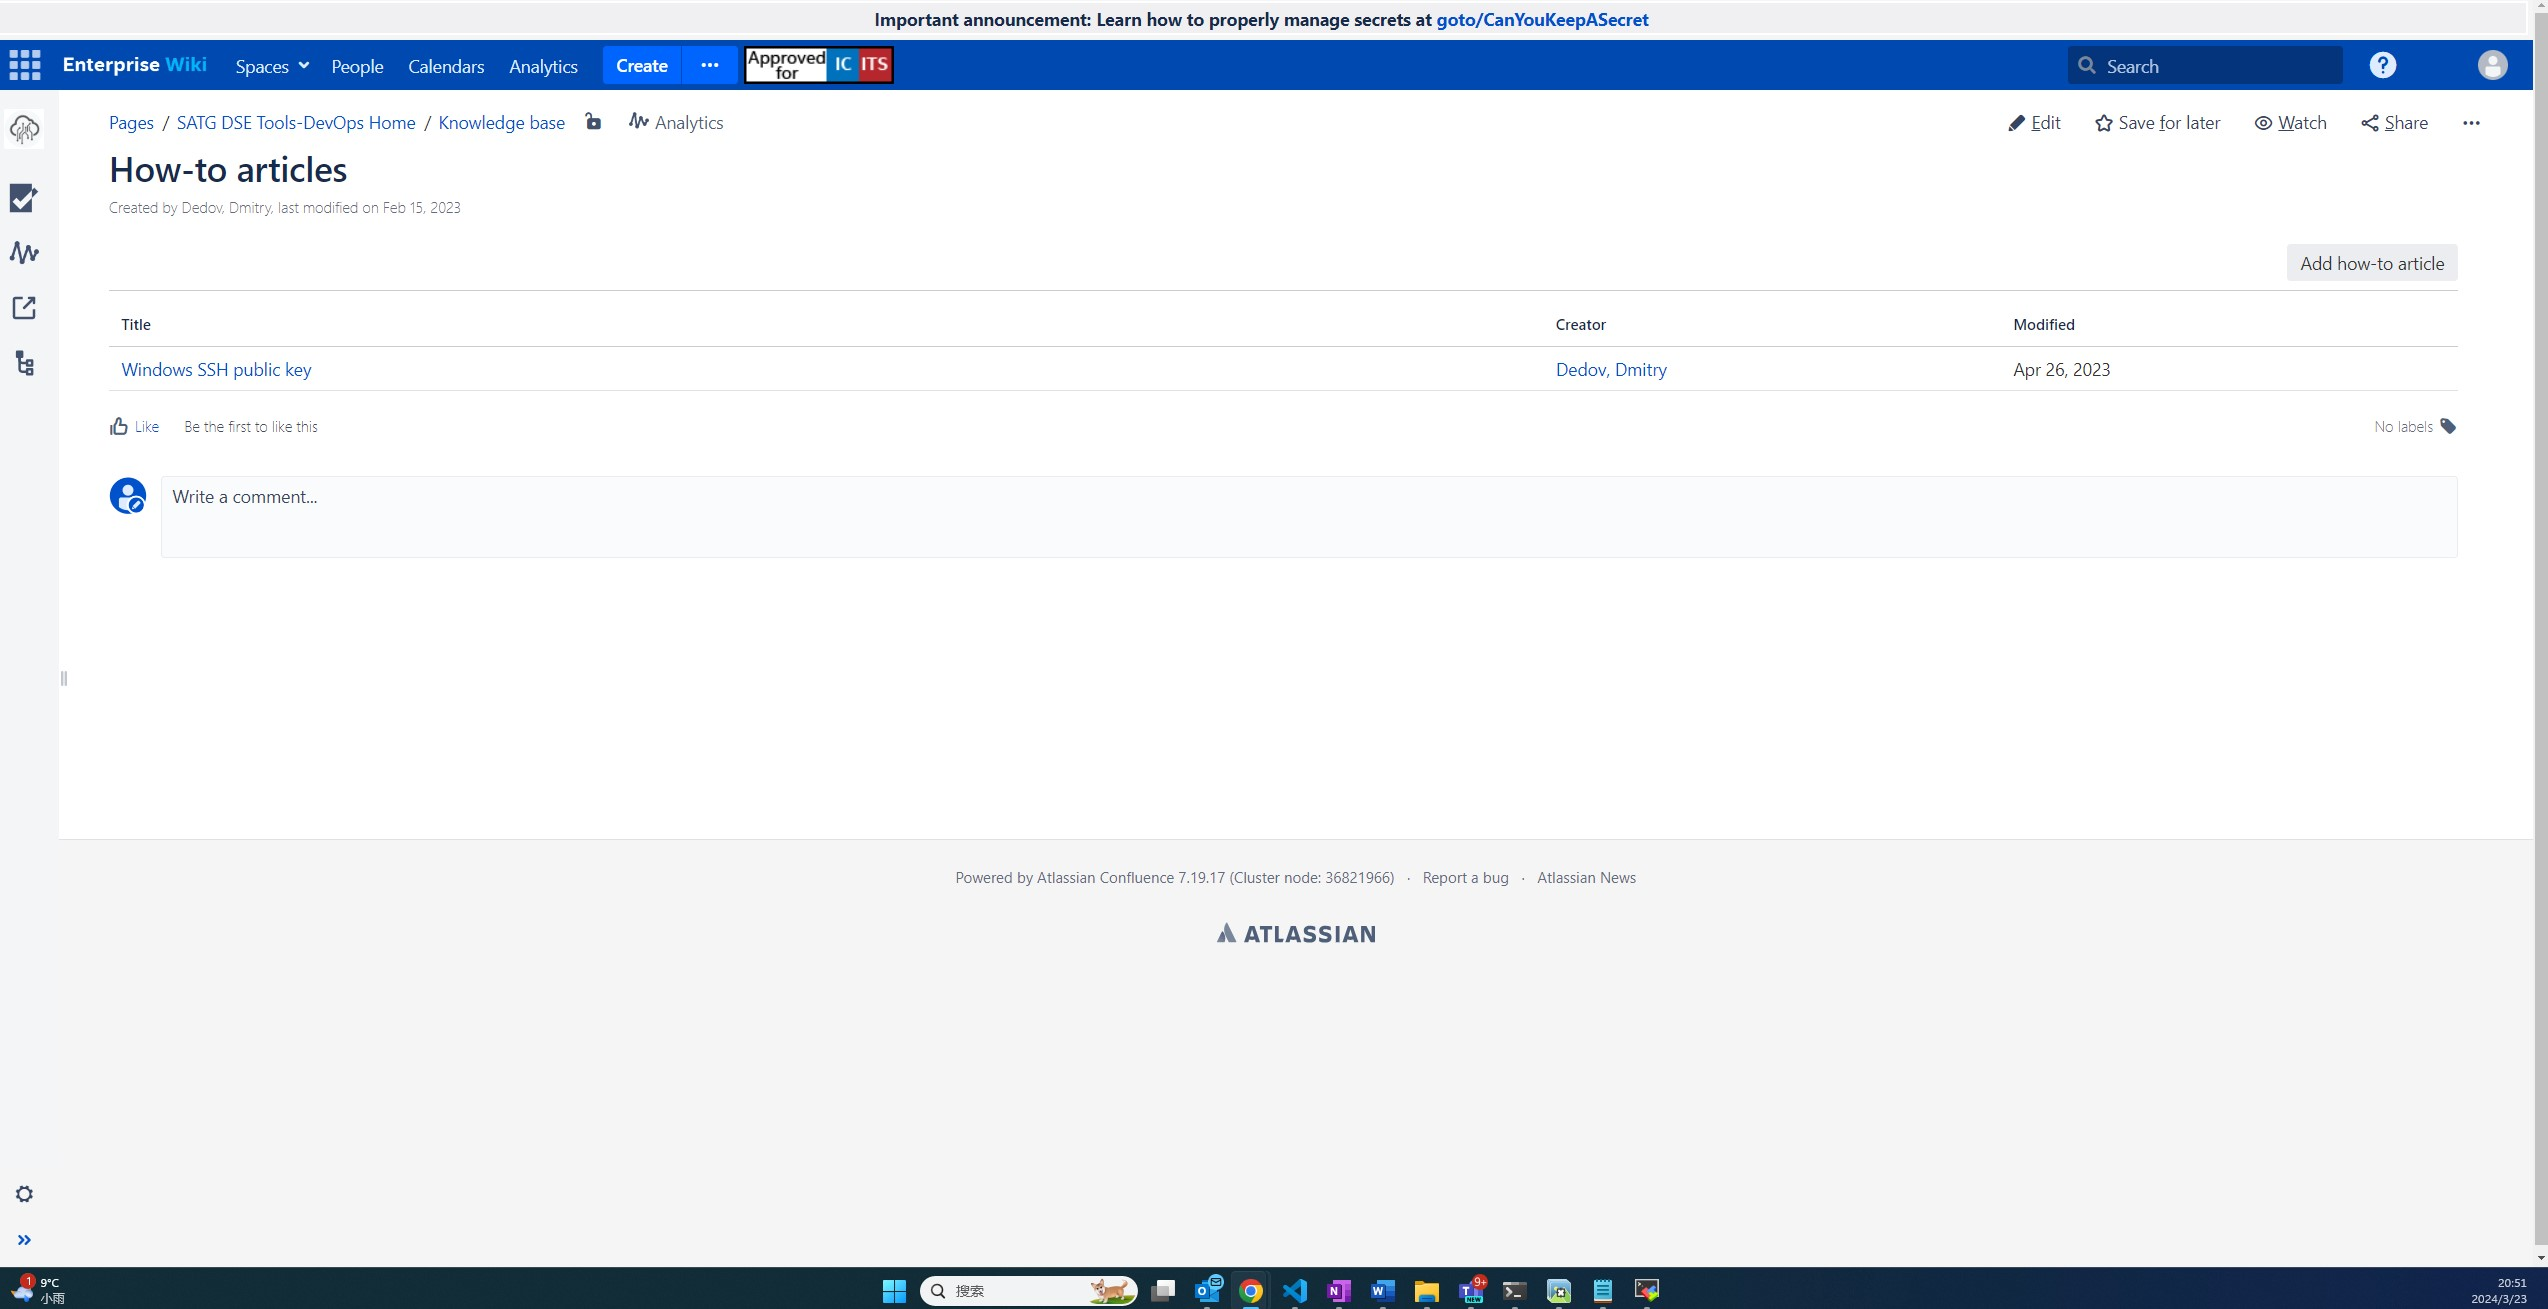button_create: (602, 45, 684, 90)
search_box: (2071, 45, 2344, 93), (919, 1271, 1140, 1302)
start_bar: (874, 1277, 913, 1307)
